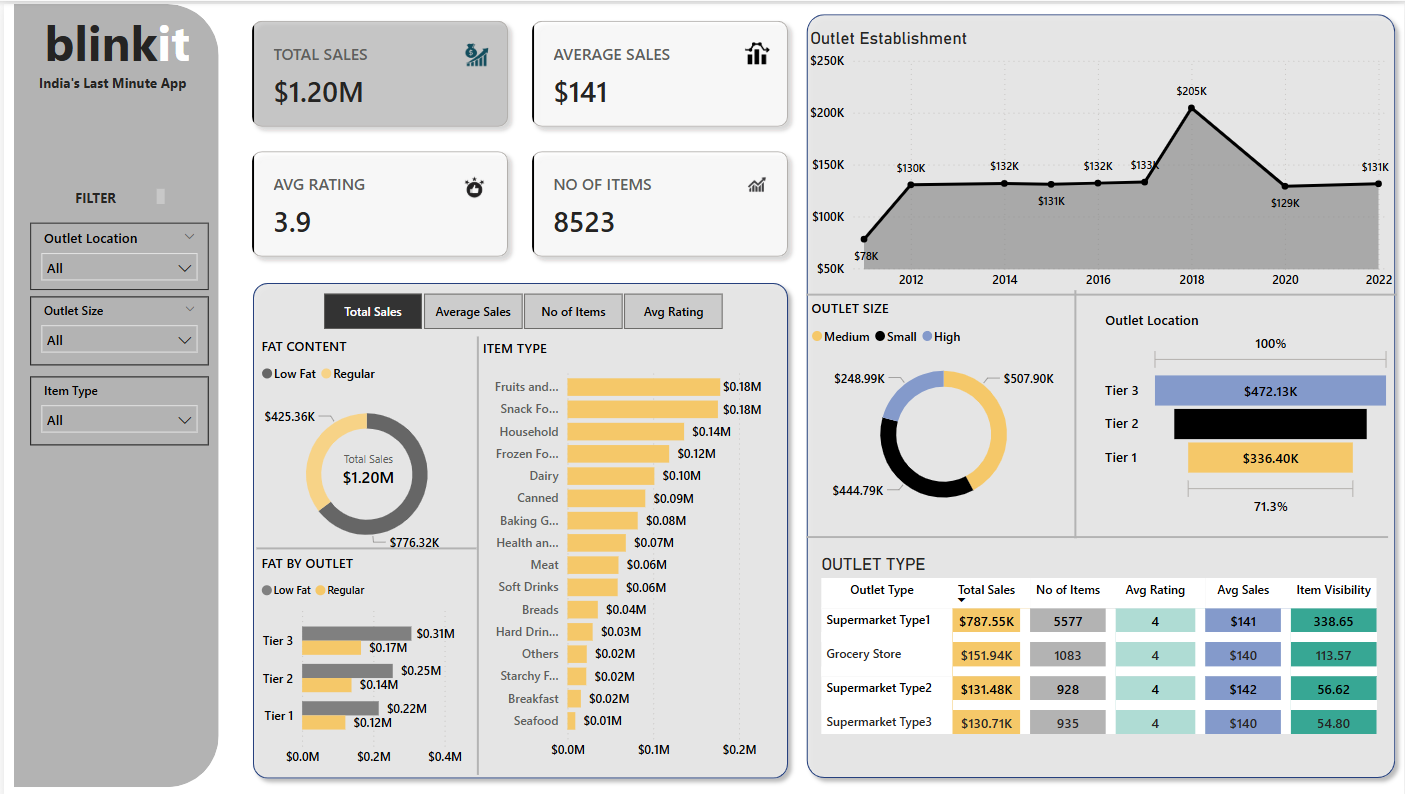

The dashboard page shown, as its layout file describes it:
{"tool":"powerbi","page":{"name":"Page 1","canvas":[1400,800],"ordinal":0},"visuals":[{"type":"shape","box":[10.2,0,204.8,783.4],"z":0},{"type":"textbox","box":[27,0,171.1,85.5],"z":1000},{"type":"textbox","box":[30,64.5,168.1,40.5],"z":2000},{"type":"cardVisual","fields":{"Data":["BlinkIT Grocery Data.Total Sales","BlinkIT Grocery Data.Average Sales","BlinkIT Grocery Data.Avg Rating","BlinkIT Grocery Data.No of Items"]},"box":[231.1,0,570.3,270.2],"z":3000},{"type":"shape","box":[240.4,269.6,553.2,513.8],"z":4000},{"type":"slicer","fields":{"Values":["Metrics.Metrics"]},"box":[293.8,282.3,448.9,49.6],"z":5000},{"type":"donutChart","title":"FAT CONTENT","fields":{"Y":["BlinkIT Grocery Data.Total Sales"],"Category":["BlinkIT Grocery Data.Item Fat Content"]},"box":[253.1,331.9,221.3,230.2],"z":6000},{"type":"cardVisual","fields":{"Data":["BlinkIT Grocery Data.Total Sales"]},"box":[310.7,430.7,106.6,64.5],"z":7000},{"type":"clusteredBarChart","title":"FAT BY OUTLET","fields":{"Y":["BlinkIT Grocery Data.Total Sales"],"Category":["BlinkIT Grocery Data.Outlet Location Type"],"Series":["BlinkIT Grocery Data.Item Fat Content"]},"box":[253.1,549.4,221.3,221.3],"z":8000},{"type":"barChart","title":"ITEM TYPE","fields":{"Y":["BlinkIT Grocery Data.Total Sales"],"Category":["BlinkIT Grocery Data.Item Type"]},"box":[474.3,334.7,306.2,429.2],"z":9000},{"type":"shape","box":[793.6,1.3,606.7,782.2],"z":10000},{"type":"lineChart","title":"Outlet Establishment ","fields":{"Category":["BlinkIT Grocery Data.Outlet Establishment Year"],"Y":["BlinkIT Grocery Data.Total Sales"]},"box":[801.2,24.2,592.7,270.9],"z":11000},{"type":"donutChart","title":"OUTLET SIZE","fields":{"Y":["BlinkIT Grocery Data.Total Sales"],"Category":["BlinkIT Grocery Data.Outlet Size"]},"box":[802.3,294.5,275,225.4],"z":12000},{"type":"funnel","title":"Outlet Location","fields":{"Category":["BlinkIT Grocery Data.Outlet Location Type"],"Y":["BlinkIT Grocery Data.Total Sales"]},"box":[1096.8,306.5,296,210.3],"z":13000},{"type":"shape","box":[253.1,540.5,220,8.9],"z":14000},{"type":"shape","box":[468,331.9,12.7,438.8],"z":15000},{"type":"shape","box":[802.5,286.2,590.1,8.9],"z":16000},{"type":"shape","box":[1064.5,286.2,12.7,248],"z":17000},{"type":"shape","box":[802.5,526.5,581.2,14],"z":18000},{"type":"pivotTable","title":"OUTLET TYPE","fields":{"Rows":["BlinkIT Grocery Data.Outlet Type"],"Values":["BlinkIT Grocery Data.Total Sales","BlinkIT Grocery Data.No of Items","BlinkIT Grocery Data.Avg Rating","BlinkIT Grocery Data.Average Sales","Sum(BlinkIT Grocery Data.Item Visibility)"]},"box":[812.7,549.4,571,217.5],"z":19000},{"type":"slicer","fields":{"Values":["BlinkIT Grocery Data.Outlet Location Type"]},"box":[26.7,218.8,178.1,67.4],"z":20000},{"type":"slicer","fields":{"Values":["BlinkIT Grocery Data.Outlet Size"]},"box":[26.7,292.5,178.1,68.7],"z":20001},{"type":"slicer","fields":{"Values":["BlinkIT Grocery Data.Item Type"]},"box":[26.7,372.6,178.1,68.7],"z":20002},{"type":"textbox","box":[66.1,180.6,99.2,29.3],"z":20003}]}

Visuals, with their boxes in screenshot pixels (x1, y1, x2, y2), scaled from the page's 1400x800 canvas onto the 1405x794 screenshot:
shape: [x1=10, y1=0, x2=216, y2=778]
textbox: [x1=27, y1=0, x2=199, y2=85]
textbox: [x1=30, y1=64, x2=199, y2=104]
cardVisual - BlinkIT Grocery Data.Total Sales x BlinkIT Grocery Data.Average Sales: [x1=232, y1=0, x2=804, y2=268]
shape: [x1=241, y1=268, x2=796, y2=778]
slicer - Metrics.Metrics: [x1=295, y1=280, x2=745, y2=329]
"FAT CONTENT" donutChart: [x1=254, y1=329, x2=476, y2=558]
cardVisual - BlinkIT Grocery Data.Total Sales: [x1=312, y1=427, x2=419, y2=491]
"FAT BY OUTLET" clusteredBarChart: [x1=254, y1=545, x2=476, y2=765]
"ITEM TYPE" barChart: [x1=476, y1=332, x2=783, y2=758]
shape: [x1=796, y1=1, x2=1404, y2=778]
"Outlet Establishment " lineChart: [x1=804, y1=24, x2=1399, y2=293]
"OUTLET SIZE" donutChart: [x1=805, y1=292, x2=1081, y2=516]
"Outlet Location" funnel: [x1=1101, y1=304, x2=1398, y2=513]
shape: [x1=254, y1=536, x2=475, y2=545]
shape: [x1=470, y1=329, x2=482, y2=765]
shape: [x1=805, y1=284, x2=1398, y2=293]
shape: [x1=1068, y1=284, x2=1081, y2=530]
shape: [x1=805, y1=523, x2=1389, y2=536]
"OUTLET TYPE" pivotTable: [x1=816, y1=545, x2=1389, y2=761]
slicer - BlinkIT Grocery Data.Outlet Location Type: [x1=27, y1=217, x2=206, y2=284]
slicer - BlinkIT Grocery Data.Outlet Size: [x1=27, y1=290, x2=206, y2=358]
slicer - BlinkIT Grocery Data.Item Type: [x1=27, y1=370, x2=206, y2=438]
textbox: [x1=66, y1=179, x2=166, y2=208]
